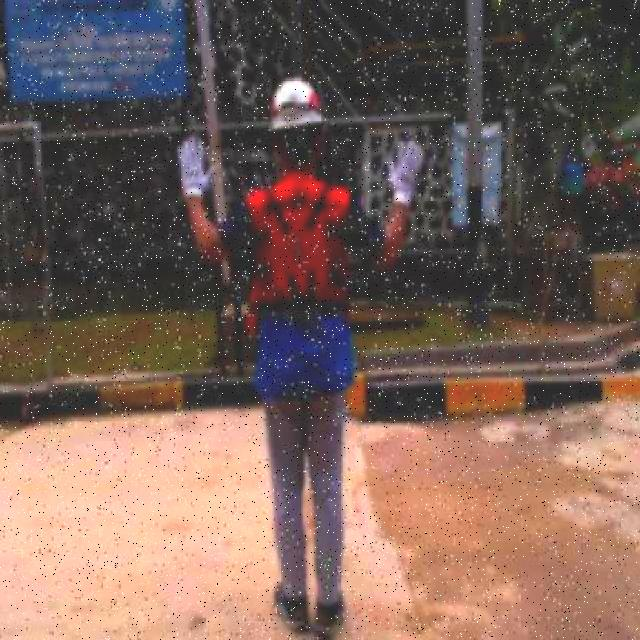Boots: (272, 568, 312, 636), (311, 580, 347, 634)
Gloves: (388, 132, 430, 206), (178, 134, 214, 210)
Helmet: (266, 70, 322, 138)
Mask: (266, 208, 331, 304)
